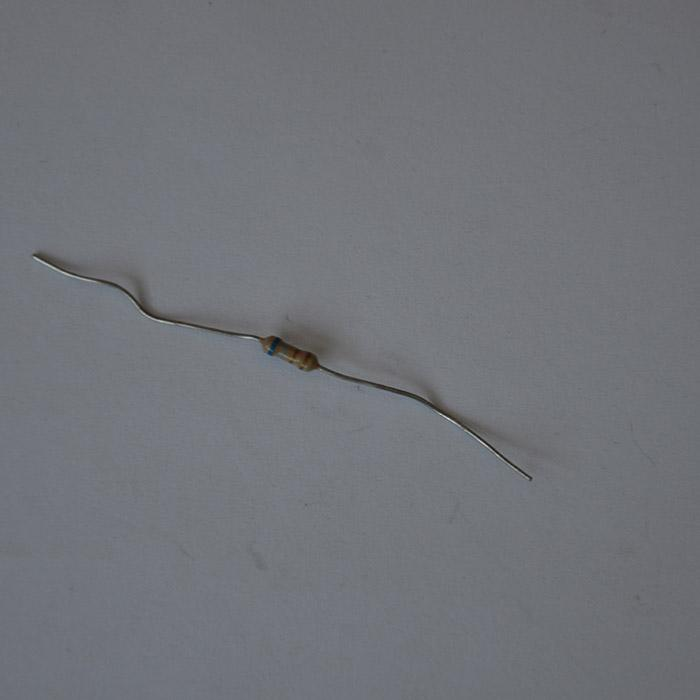resistor: (259, 334, 317, 371)
